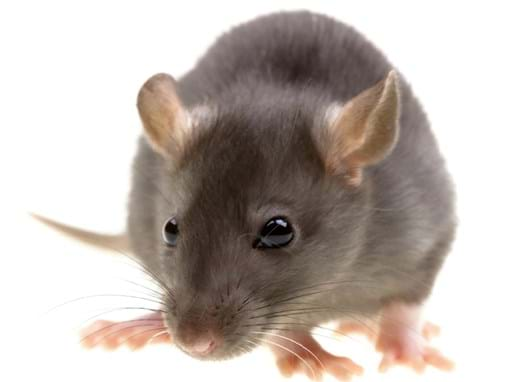Rat: (101, 7, 460, 375)
